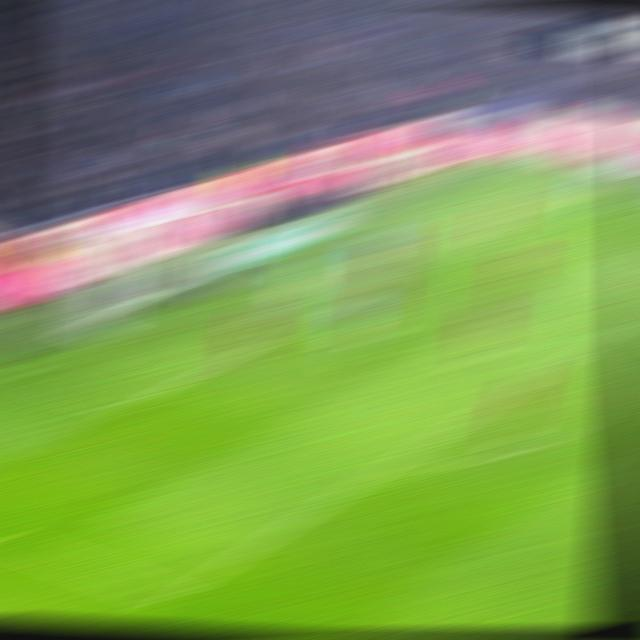bigarea_bottom_inner: (151, 585, 195, 611)
bigarea_top_outter: (390, 210, 424, 220)
bottom_arc_area_intersection: (372, 458, 409, 471)
corner: (515, 160, 552, 167)
smallarea_bottom_inner: (106, 392, 149, 419)
smallarea_bottom_outter: (0, 364, 41, 382)
smallarea_top_inner: (355, 287, 387, 295)
smallarea_top_outter: (267, 262, 304, 270)
top_arc_area_intersection: (555, 350, 593, 363)
